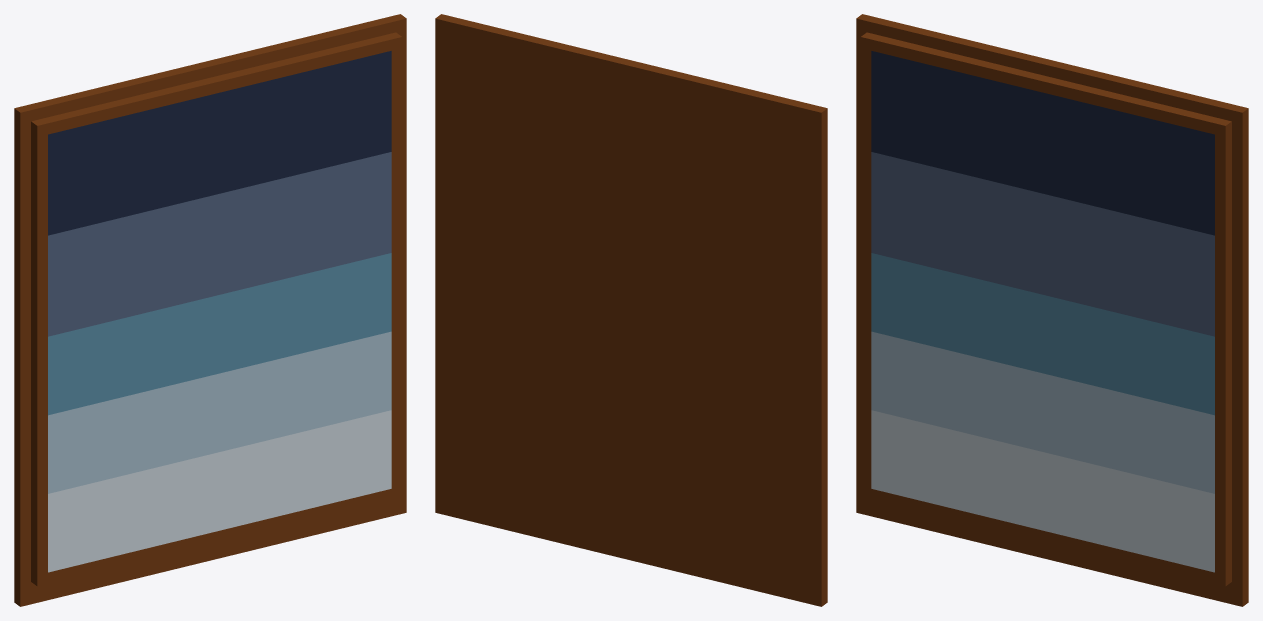
The model's file is papan_gantung.obj.
The picture shows the model from 3 angles, left to right: view 1: azimuth 30°, elevation 25°; view 2: azimuth 150°, elevation 25°; view 3: azimuth 330°, elevation 25°; orthographic projection.
Size of the model in its own units: 3.6 by 4.4 by 0.2.
1 material, 1 textured.
